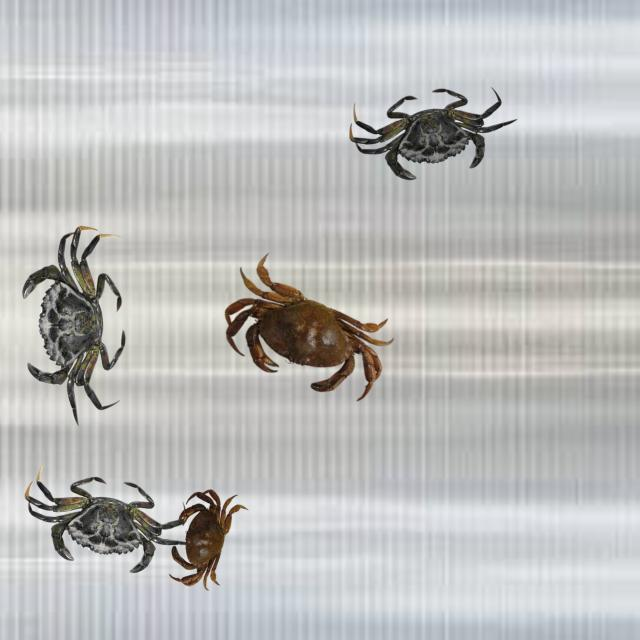European_Green_Crab: (13, 460, 202, 586), (19, 224, 131, 428), (343, 76, 526, 190)
